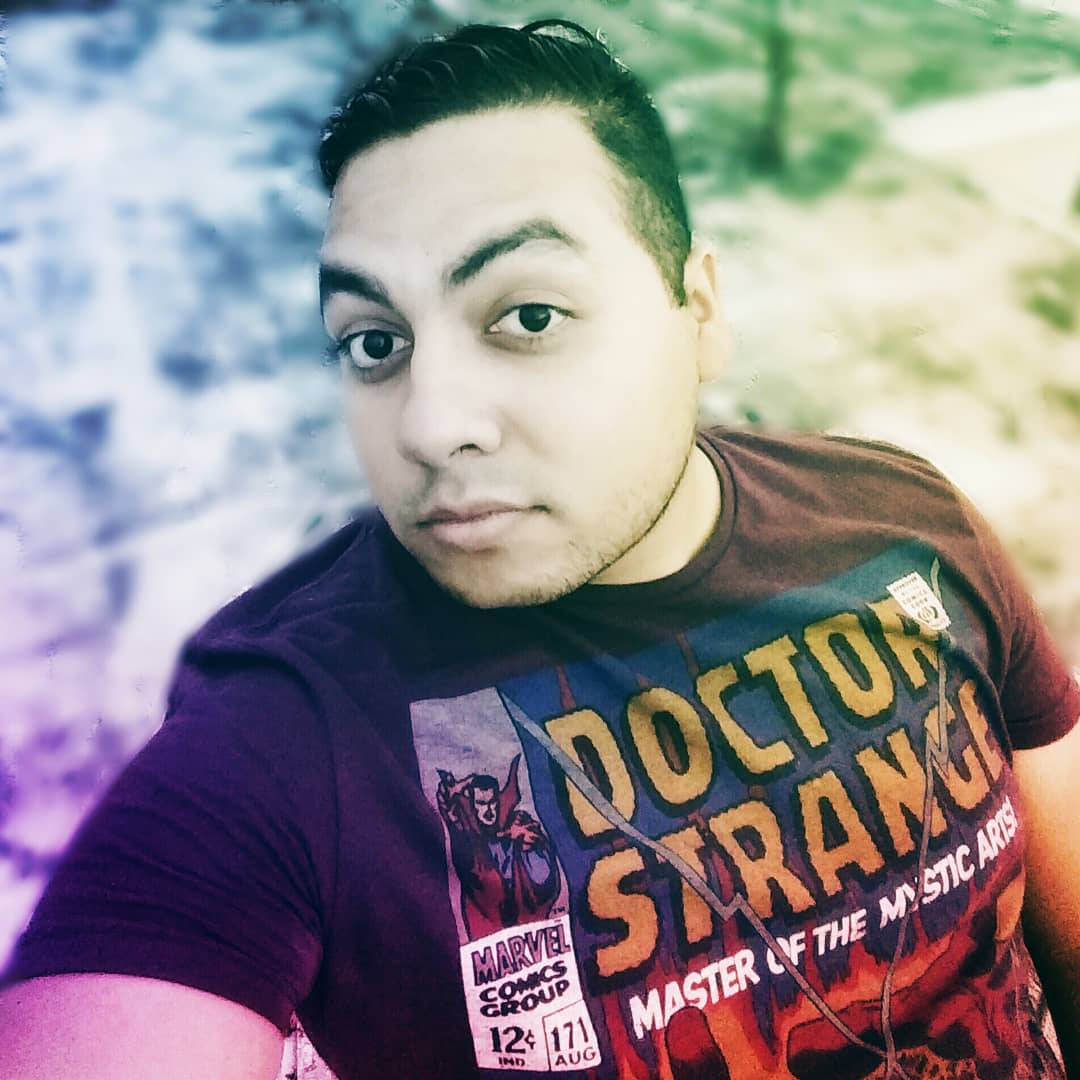Yoshi: (167, 12, 816, 799)
